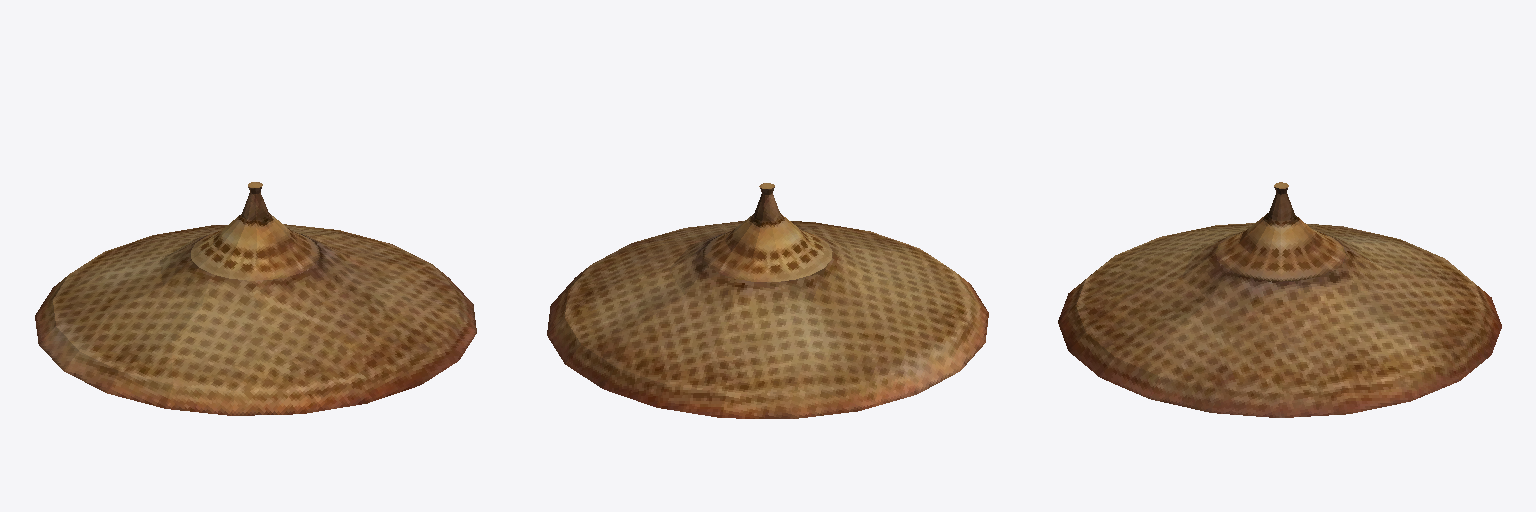
3 views of the same model, side by side, from view 1: azimuth 30°, elevation 25°; view 2: azimuth 150°, elevation 25°; view 3: azimuth 270°, elevation 25° (orthographic).
Visible parts, largest first — view 1: obj2; view 2: obj2; view 3: obj2.
Part boxes in pixels (left/top/right/bottom): obj2: left=35, top=182, right=476, bottom=415; obj2: left=547, top=183, right=988, bottom=418; obj2: left=1058, top=182, right=1501, bottom=417.
Size of the model in its own units: 5.62 by 1.96 by 5.62.
1 materials, 1 textured.